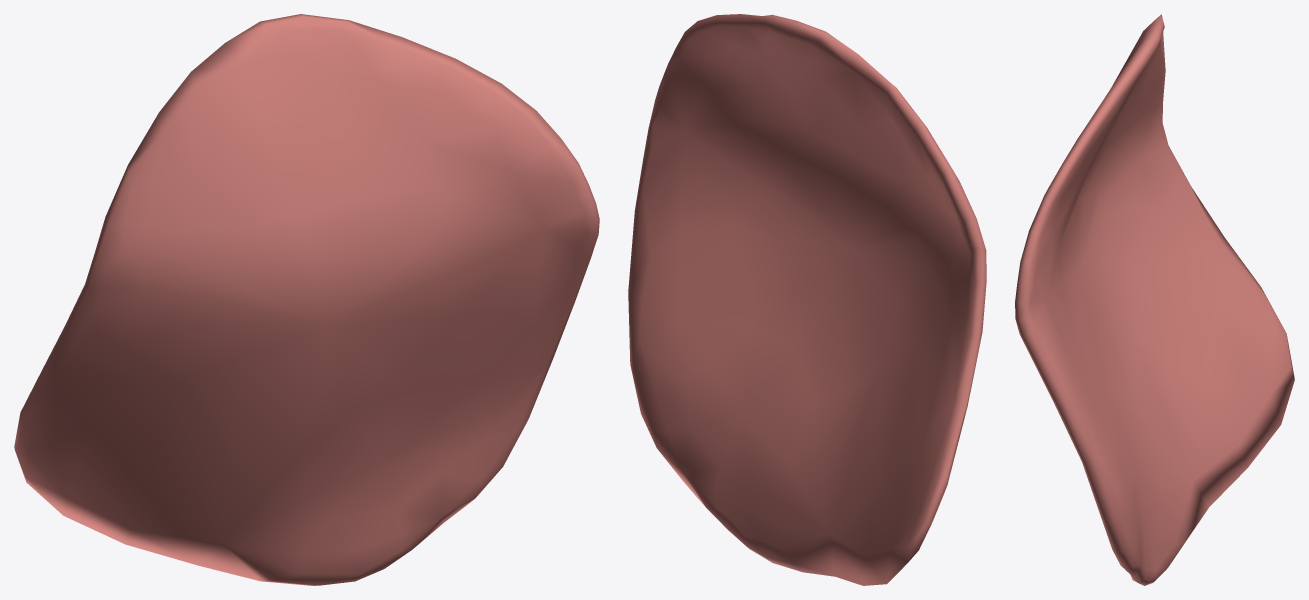
3 renders of one model, left to right at view 1: azimuth 30°, elevation 25°; view 2: azimuth 150°, elevation 25°; view 3: azimuth 270°, elevation 25°, orthographic. The views are drawn at different scales.
Parts seen in each view (by area): view 1: ZA_f700eed177e48bd7; view 2: ZA_f700eed177e48bd7; view 3: ZA_f700eed177e48bd7.
Boxes of the visible parts, x1,y1,x2,y2 form: ZA_f700eed177e48bd7: (14, 14, 599, 585); ZA_f700eed177e48bd7: (628, 14, 986, 585); ZA_f700eed177e48bd7: (1015, 14, 1294, 585).
Bounding box in the file's own units: 0.013 × 0.0161 × 0.0077.
